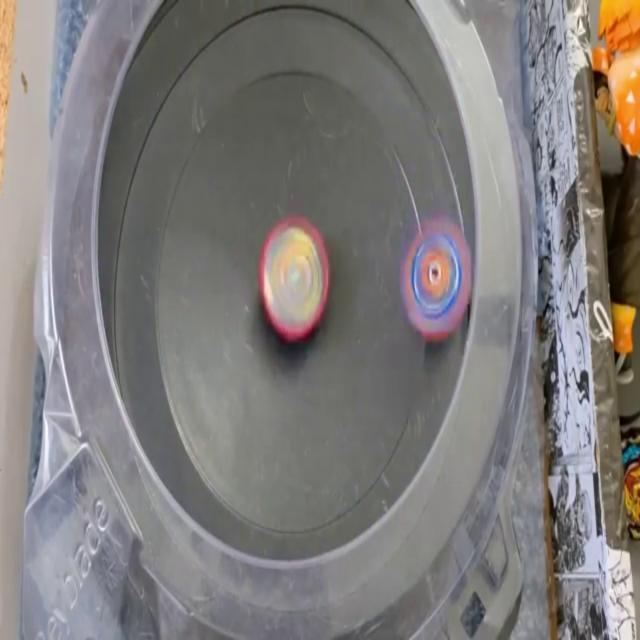Beyblade: (398, 211, 472, 339), (258, 215, 330, 340)
